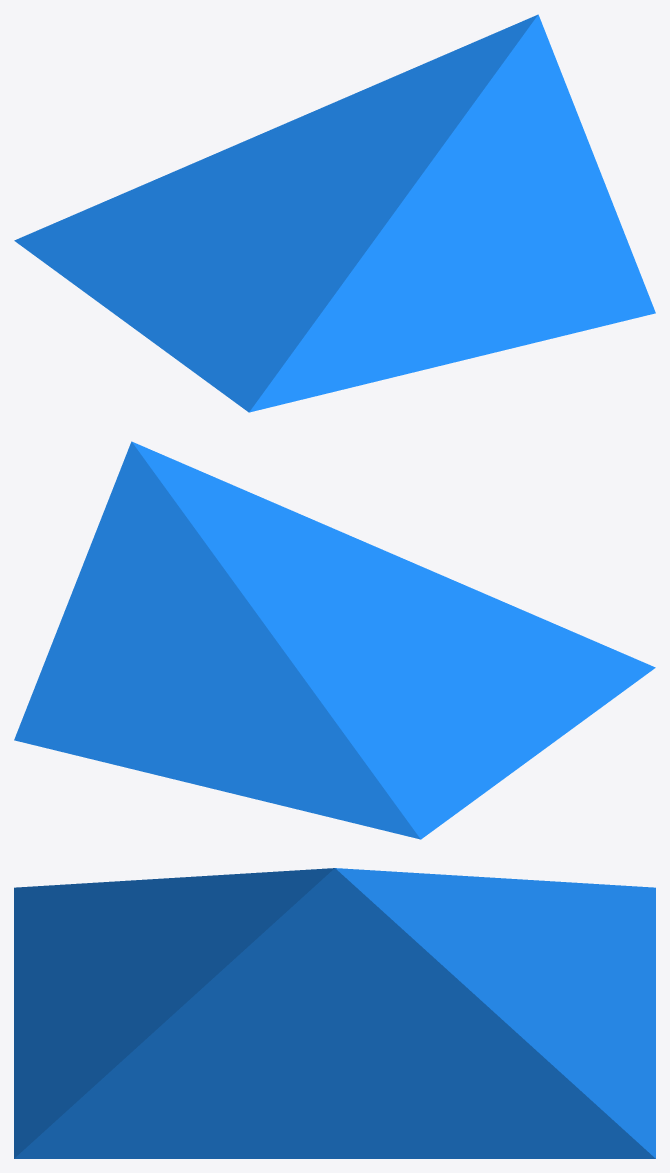
File: Proto_Building_Block_Roof_End_02.fbx
3 views of the same model, one above another, from view 1: azimuth 30°, elevation 25°; view 2: azimuth 150°, elevation 25°; view 3: azimuth 270°, elevation 25° (orthographic). The views are drawn at different scales.
Visible parts, largest first — view 1: Proto_Building_Block_Roof_End_02; view 2: Proto_Building_Block_Roof_End_02; view 3: Proto_Building_Block_Roof_End_02.
Part boxes in pixels (x1=…): Proto_Building_Block_Roof_End_02: x1=14, y1=14, x2=655, y2=412; Proto_Building_Block_Roof_End_02: x1=14, y1=441, x2=655, y2=839; Proto_Building_Block_Roof_End_02: x1=14, y1=868, x2=655, y2=1158.
Bounding box in the file's own units: 2 × 1 × 2.
